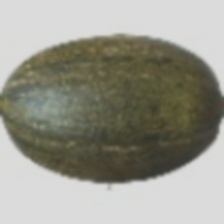honeydew: (47, 42, 188, 198)
